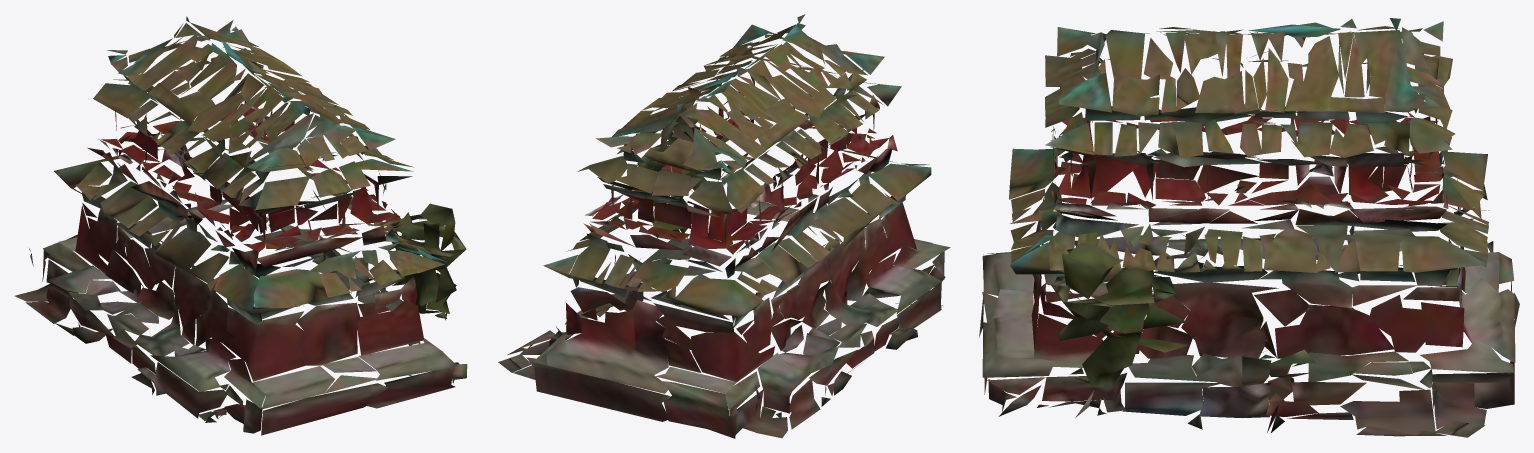
Rendered from preview.glb.
The picture shows the model from 3 angles, left to right: view 1: azimuth 30°, elevation 25°; view 2: azimuth 150°, elevation 25°; view 3: azimuth 270°, elevation 25°; orthographic projection. The views are drawn at different scales.
Parts seen in each view (by area): view 1: drum/tripo_node_09111192-4bc7-4bd8-a351-01c6180949ad; view 2: drum/tripo_node_09111192-4bc7-4bd8-a351-01c6180949ad; view 3: drum/tripo_node_09111192-4bc7-4bd8-a351-01c6180949ad.
Part boxes in pixels (<box>): drum/tripo_node_09111192-4bc7-4bd8-a351-01c6180949ad: <box>14,16,467,435</box>; drum/tripo_node_09111192-4bc7-4bd8-a351-01c6180949ad: <box>498,14,950,438</box>; drum/tripo_node_09111192-4bc7-4bd8-a351-01c6180949ad: <box>979,18,1519,437</box>.
Bounding box in the file's own units: 0.506 × 0.4619 × 0.674.
1 material, 1 textured.
